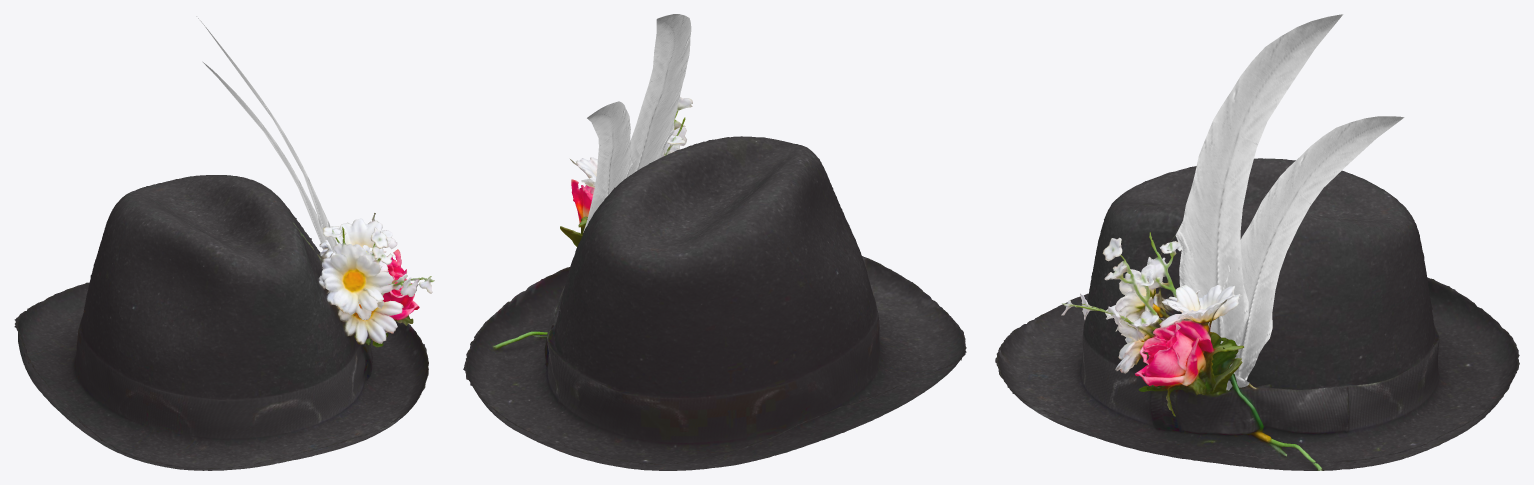
Rendered from 5d34007c-bb74-494e-8022-d4f4d9f19ed8-klobuk.glb.
3 renders of one model, left to right at view 1: azimuth 30°, elevation 25°; view 2: azimuth 150°, elevation 25°; view 3: azimuth 270°, elevation 25°, orthographic. The views are drawn at different scales.
Parts seen in each view (by area): view 1: Mesh_0_Part_0.002, Plane.004, Plane.002; view 2: Mesh_0_Part_0.002, Plane.002, Plane.004; view 3: Mesh_0_Part_0.002, Plane.002, Plane.004.
Boxes of the visible parts, bbox=[...] form: Mesh_0_Part_0.002: bbox=[14, 175, 434, 470]; Plane.004: bbox=[202, 61, 325, 249]; Plane.002: bbox=[196, 16, 336, 253]; Mesh_0_Part_0.002: bbox=[463, 97, 966, 470]; Plane.002: bbox=[628, 14, 691, 176]; Plane.004: bbox=[583, 101, 633, 232]; Mesh_0_Part_0.002: bbox=[995, 158, 1519, 470]; Plane.002: bbox=[1175, 14, 1343, 390]; Plane.004: bbox=[1221, 116, 1404, 387].
Size of the model in its own units: 0.2658 by 0.243 by 0.3056.
Materials: 2 (2 with a texture image).
